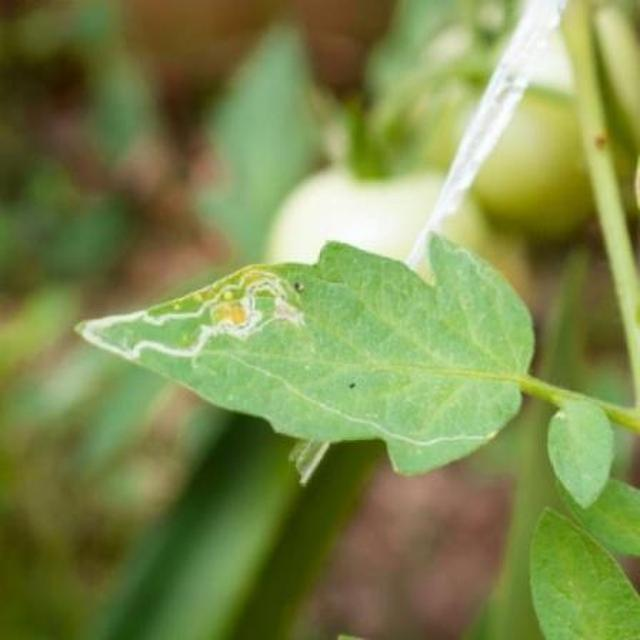Leaf Miner: (121, 323, 640, 640)
